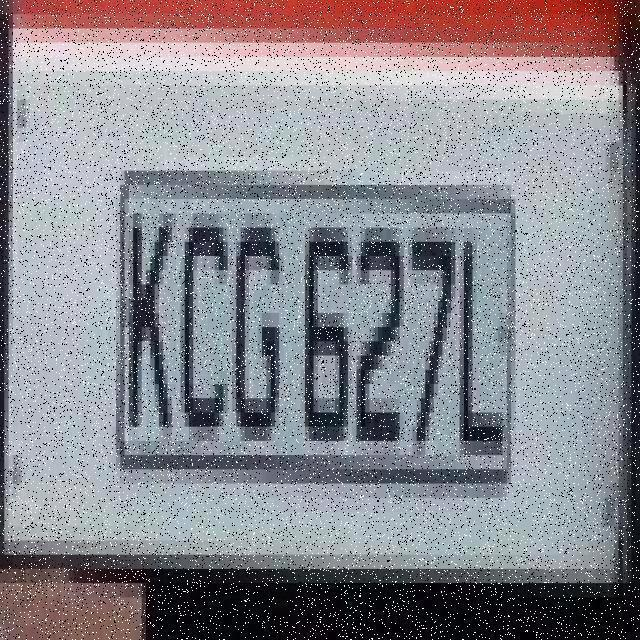License Plate: (99, 115, 522, 523)
